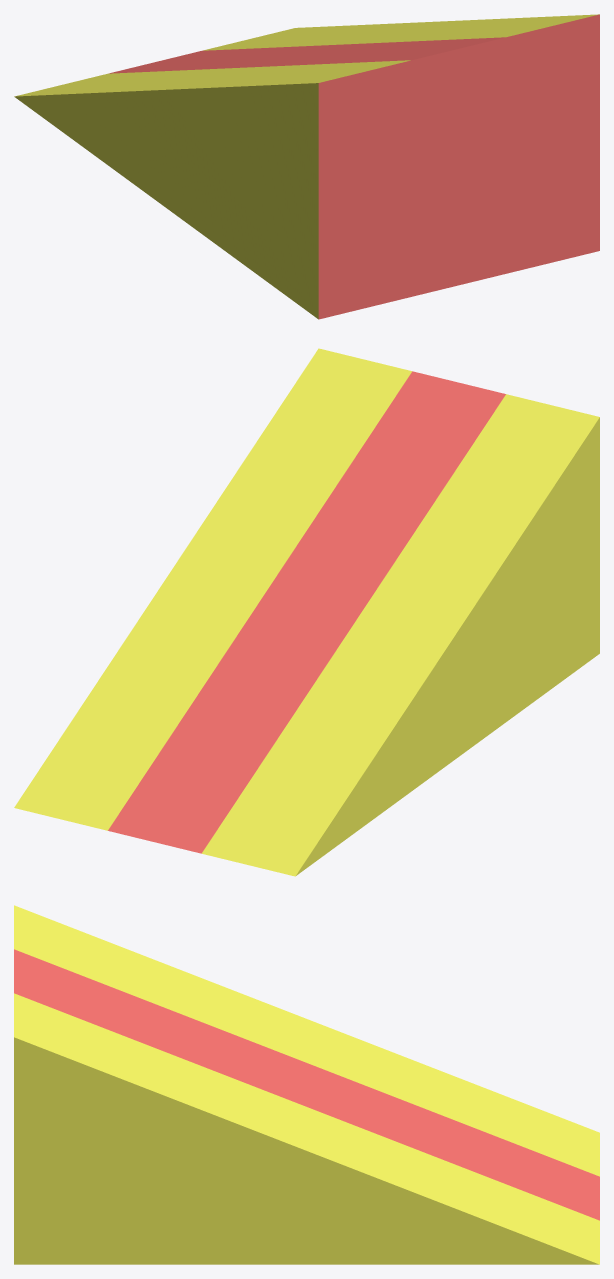
File: Plataforma_do_tabuleiro.fbx
3 views of the same model, one above another, from view 1: azimuth 30°, elevation 25°; view 2: azimuth 150°, elevation 25°; view 3: azimuth 270°, elevation 25° (orthographic). The views are drawn at different scales.
Visible parts, largest first — view 1: Rampa; view 2: Rampa; view 3: Rampa.
Boxes of the visible parts, x1,y1,x2,y2 form: Rampa: (14,14,599,319); Rampa: (14,348,599,876); Rampa: (14,905,599,1264).
Bounding box in the file's own units: 997 × 801 × 1870.
